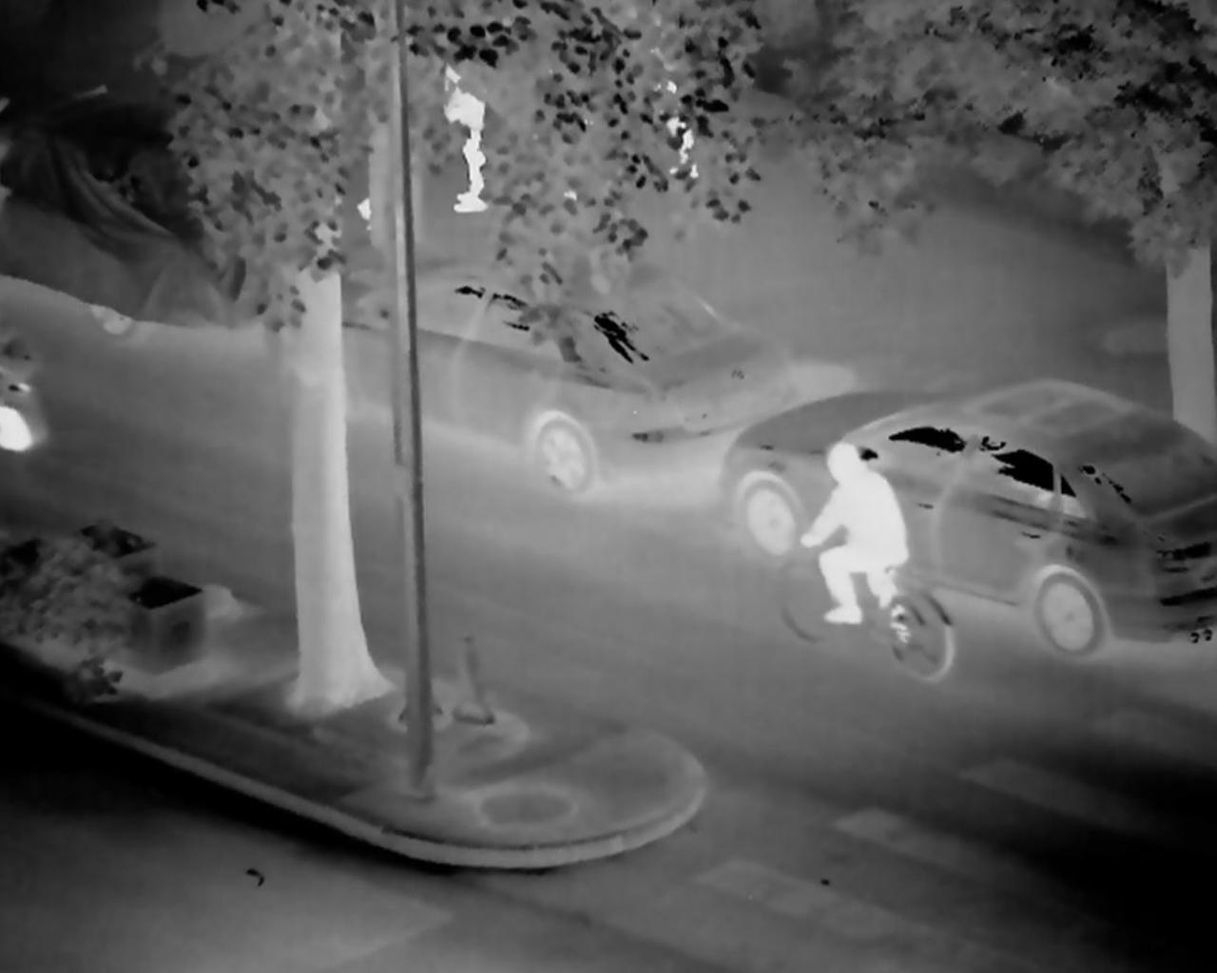person: (802, 439, 919, 656), (433, 61, 523, 211)
